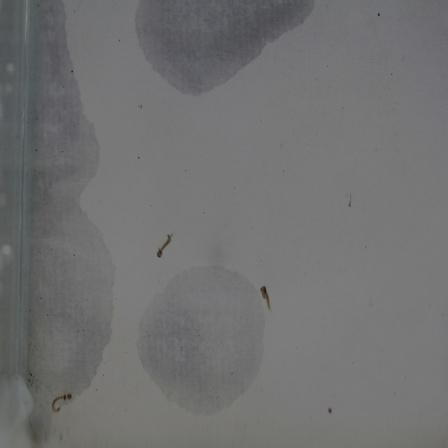Jentik-Nyamuk: (256, 281, 277, 317), (48, 388, 74, 417), (153, 229, 177, 260)
